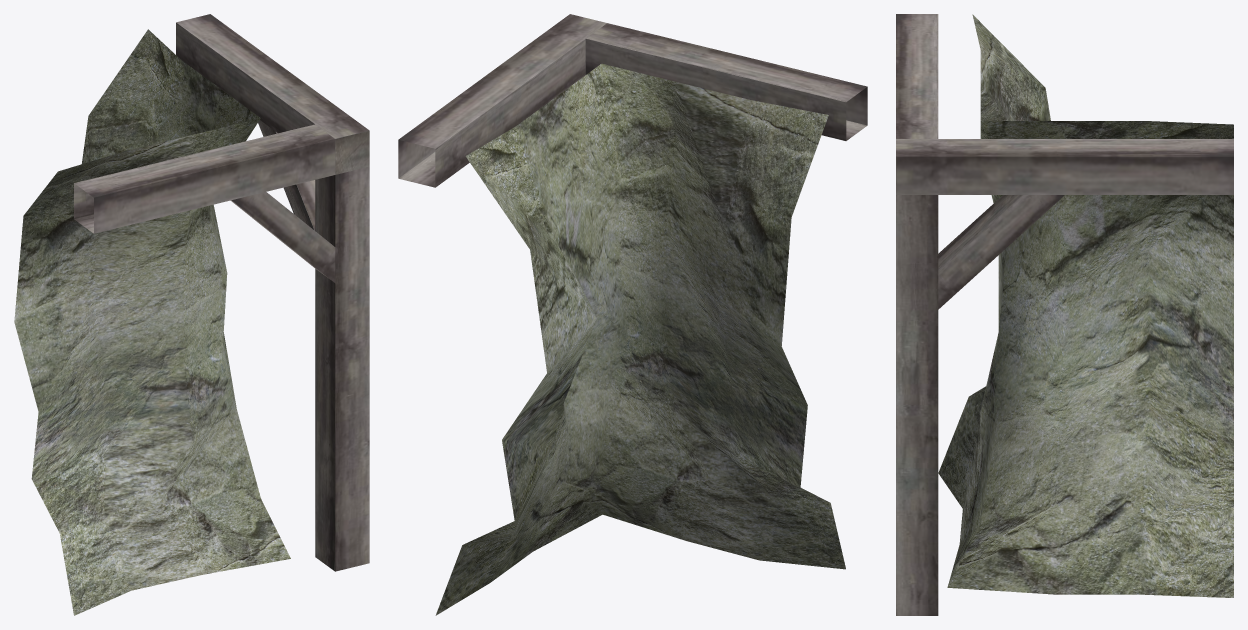
The model's file is Wall_CornerOuter.FBX.
3 views of the same model, side by side, from view 1: azimuth 30°, elevation 25°; view 2: azimuth 150°, elevation 25°; view 3: azimuth 270°, elevation 25° (orthographic). The views are drawn at different scales.
Parts seen in each view (by area): view 1: CornerOuter; view 2: CornerOuter; view 3: CornerOuter.
Part boxes in pixels (x1,y1,x2,y2): CornerOuter: [14, 14, 369, 615]; CornerOuter: [398, 14, 867, 615]; CornerOuter: [896, 14, 1233, 615].
Size of the model in its own units: 200 by 300 by 200.
